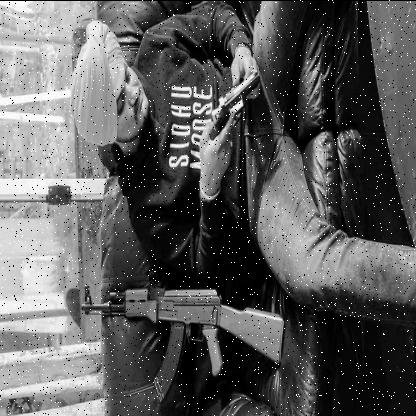rifle: (78, 276, 288, 406), (207, 64, 262, 152)
